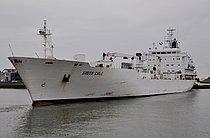Ship: (6, 15, 204, 111)
